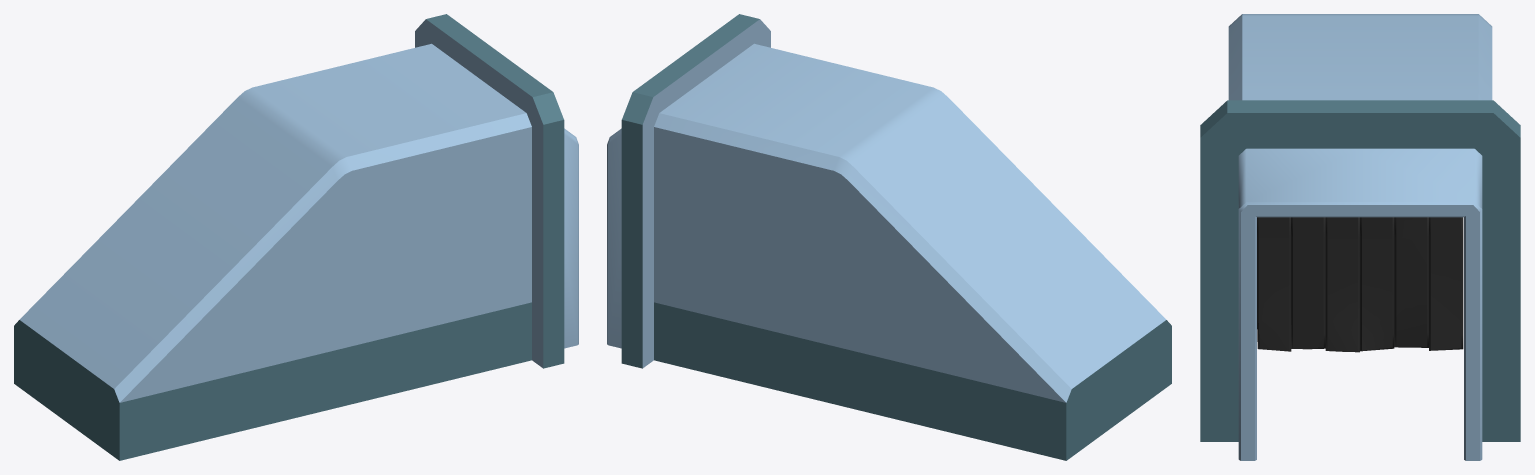
Rendered from Airport_Band3.fbx.
3 renders of one model, left to right at view 1: azimuth 30°, elevation 25°; view 2: azimuth 150°, elevation 25°; view 3: azimuth 270°, elevation 25°, orthographic. The views are drawn at different scales.
Visible parts, largest first — view 1: 12.3.BaggageClaimBand; view 2: 12.3.BaggageClaimBand; view 3: 12.3.BaggageClaimBand.
Part boxes in pixels (x1,y1,x2,y2): 12.3.BaggageClaimBand: (14,14,578,460); 12.3.BaggageClaimBand: (607,14,1171,460); 12.3.BaggageClaimBand: (1200,14,1520,460).
Size of what is drawn, in the model's own units: 555 by 301 by 266.
1 material, 1 textured.
